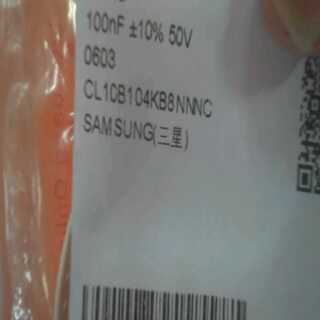100nF: (80, 7, 127, 37)
